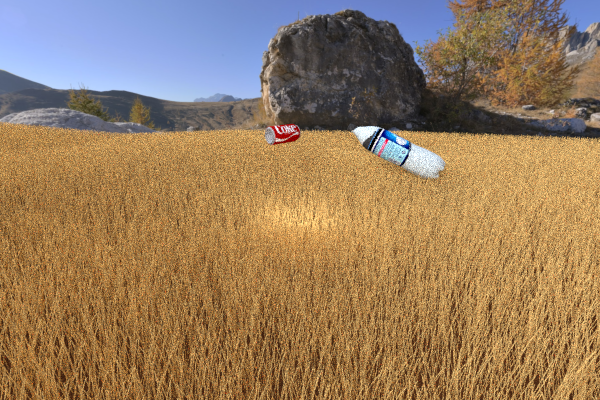bottle: (347, 123, 445, 180)
can: (264, 123, 300, 145)
